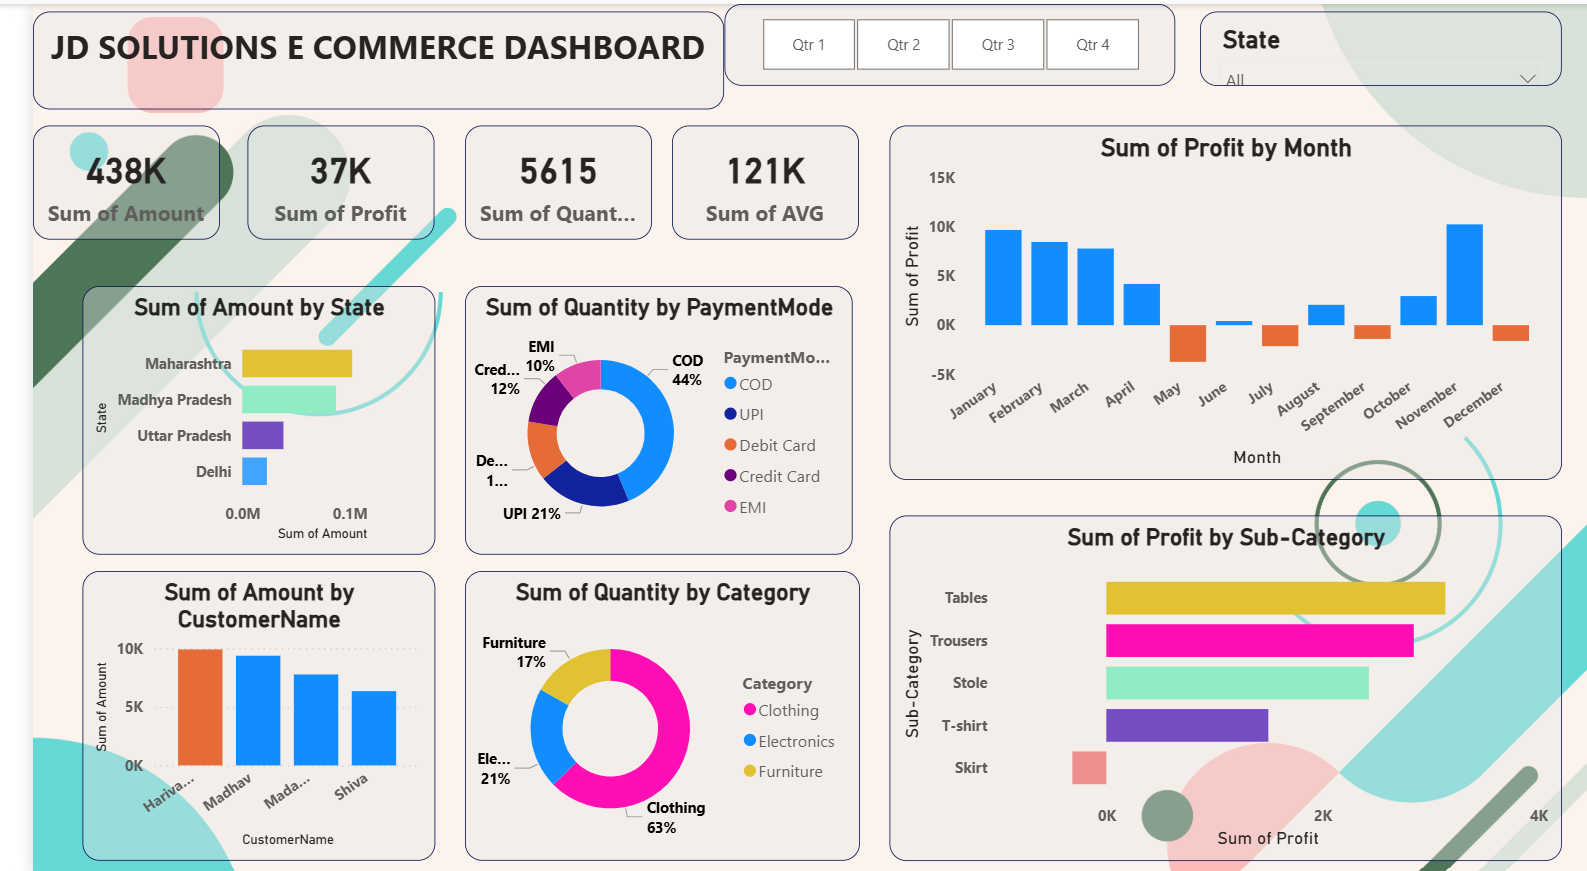

The dashboard page shown, as its layout file describes it:
{"tool":"powerbi","page":{"name":"Page 1","canvas":[1280,720],"ordinal":0},"visuals":[{"type":"textbox","box":[0,5.8,569.2,80.8],"z":0},{"type":"columnChart","fields":{"Y":["Sum(Details1.Profit)"],"Category":["Orders1.Order Date.Variation.Date Hierarchy.Month"]},"box":[705.8,100,553.8,292.3],"z":1000},{"type":"barChart","fields":{"Category":["Details1.Sub-Category"],"Y":["Sum(Details1.Profit)"]},"box":[705.8,421.2,553.8,284.6],"z":2000},{"type":"donutChart","fields":{"Category":["Details1.Category"],"Y":["Sum(Details1.Quantity)"]},"box":[355.8,467.3,325,238.5],"z":3000},{"type":"donutChart","fields":{"Category":["Details1.PaymentMode"],"Y":["Sum(Details1.Quantity)"]},"box":[355.8,232.7,319.2,221.2],"z":4000},{"type":"card","fields":{"Values":["Sum(Details1.Amount)"]},"box":[0,100,153.8,94.2],"z":5000},{"type":"card","fields":{"Values":["Sum(Details1.Quantity)"]},"box":[355.8,100,153.8,94.2],"z":6000},{"type":"card","fields":{"Values":["Sum(Details1.AVG)"]},"box":[526.9,100,153.8,94.2],"z":7000},{"type":"card","fields":{"Values":["Sum(Details1.Profit)"]},"box":[176.9,100,153.8,94.2],"z":8000},{"type":"barChart","fields":{"Category":["Orders1.State"],"Y":["Sum(Details1.Amount)"]},"box":[40.4,232.7,290.4,221.2],"z":9000},{"type":"columnChart","fields":{"Category":["Orders1.CustomerName"],"Y":["Sum(Details1.Amount)"]},"box":[40.4,467.3,290.4,238.5],"z":10000},{"type":"slicer","fields":{"Values":["Orders1.Order Date.Variation.Date Hierarchy.Quarter"]},"box":[569.2,0,371.2,67.3],"z":11000},{"type":"slicer","fields":{"Values":["Orders1.State"]},"box":[961.5,5.8,298.1,61.5],"z":12000}]}

Visuals, with their boxes in screenshot pixels (x1, y1, x2, y2), scaled from the page's 1280x720 canvas onto the 1587x871 screenshot:
textbox: box(0, 7, 706, 105)
columnChart - Sum(Details1.Profit) x Orders1.Order Date.Variation.Date Hierarchy.Month: box(875, 121, 1562, 475)
barChart - Details1.Sub-Category x Sum(Details1.Profit): box(875, 510, 1562, 854)
donutChart - Details1.Category x Sum(Details1.Quantity): box(441, 565, 844, 854)
donutChart - Details1.PaymentMode x Sum(Details1.Quantity): box(441, 282, 837, 549)
card - Sum(Details1.Amount): box(0, 121, 191, 235)
card - Sum(Details1.Quantity): box(441, 121, 632, 235)
card - Sum(Details1.AVG): box(653, 121, 844, 235)
card - Sum(Details1.Profit): box(219, 121, 410, 235)
barChart - Orders1.State x Sum(Details1.Amount): box(50, 282, 410, 549)
columnChart - Orders1.CustomerName x Sum(Details1.Amount): box(50, 565, 410, 854)
slicer - Orders1.Order Date.Variation.Date Hierarchy.Quarter: box(706, 0, 1166, 81)
slicer - Orders1.State: box(1192, 7, 1562, 81)
